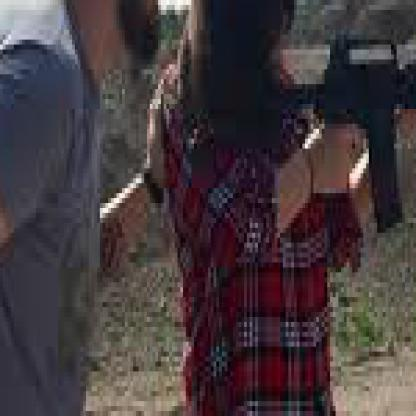gun: (156, 337, 288, 411)
